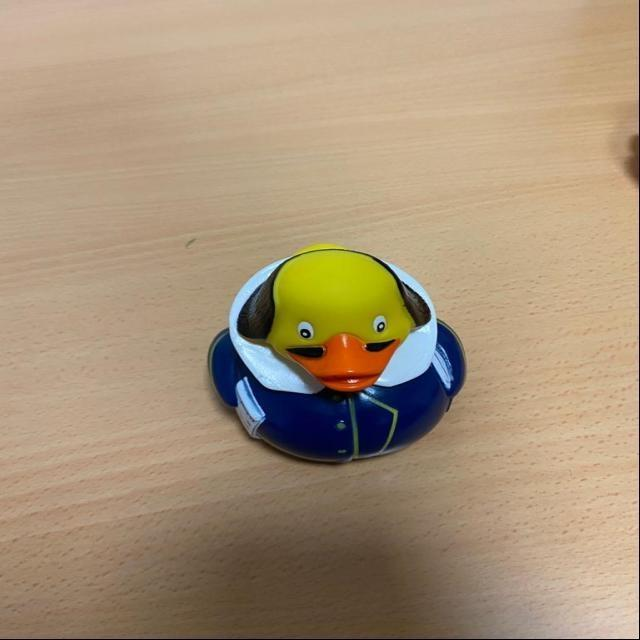rubber-duck: (208, 244, 463, 460)
